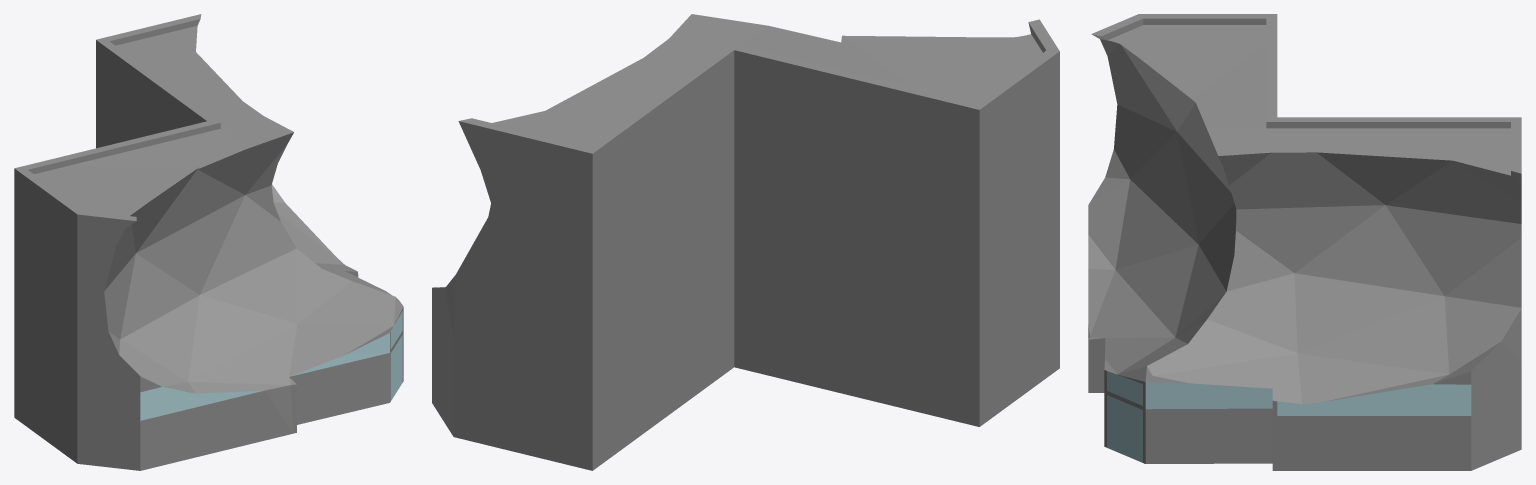
The picture shows the model from 3 angles, left to right: view 1: azimuth 30°, elevation 25°; view 2: azimuth 150°, elevation 25°; view 3: azimuth 270°, elevation 25°; orthographic projection. The views are drawn at different scales.
Visible parts, largest first — view 1: Cube.005; view 2: Cube.005; view 3: Cube.005.
Part boxes in pixels (box(x1,y1,x2,y2)): Cube.005: box(14, 14, 403, 470); Cube.005: box(432, 14, 1059, 470); Cube.005: box(1088, 14, 1521, 470).
Size of the model in its own units: 1388 by 967 by 1388.
